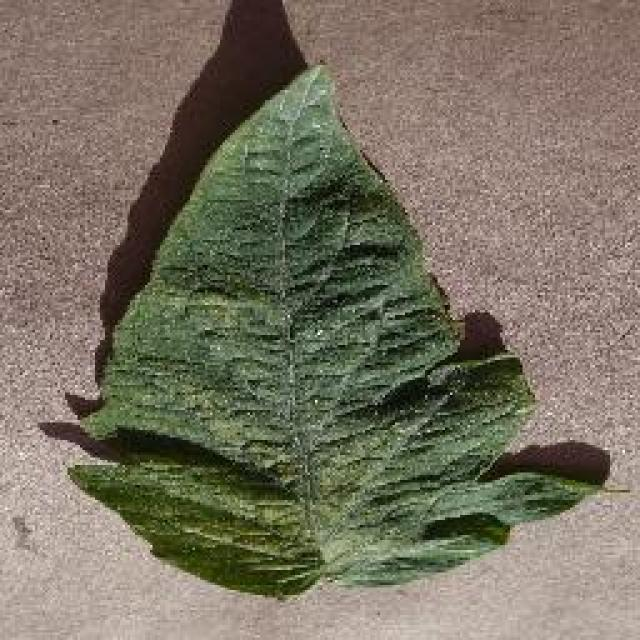Tomato mosaic virus leaf: (64, 59, 598, 604)
